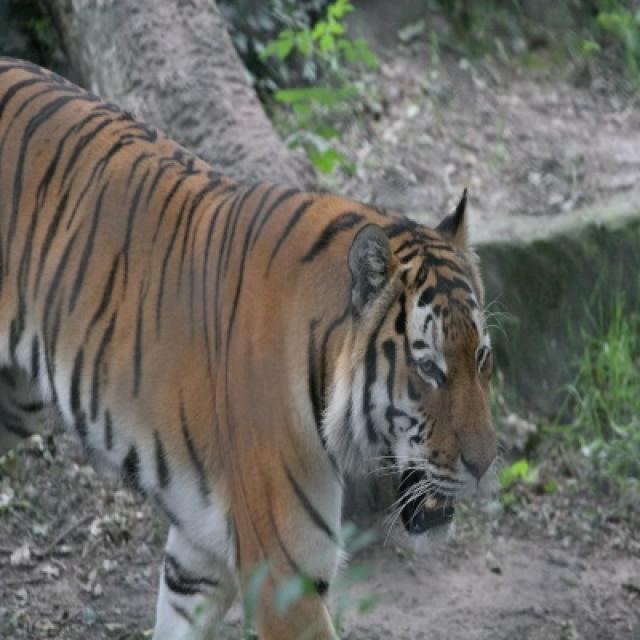Tiger: (0, 63, 502, 637)
